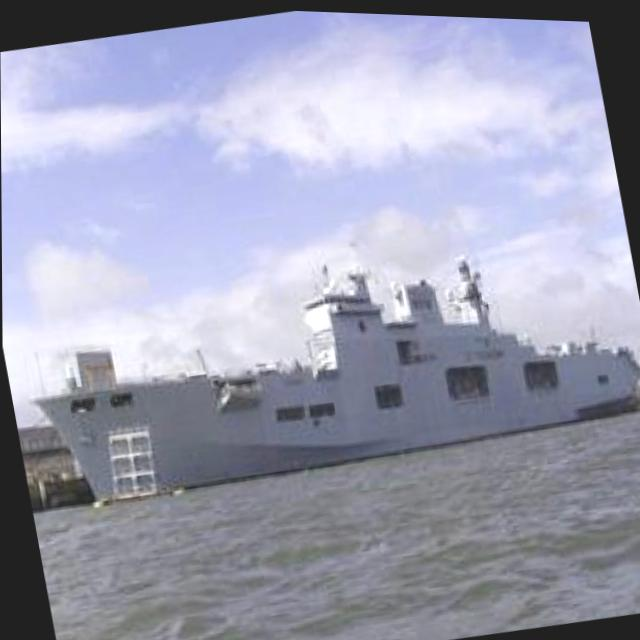ship2: (31, 250, 640, 506)
